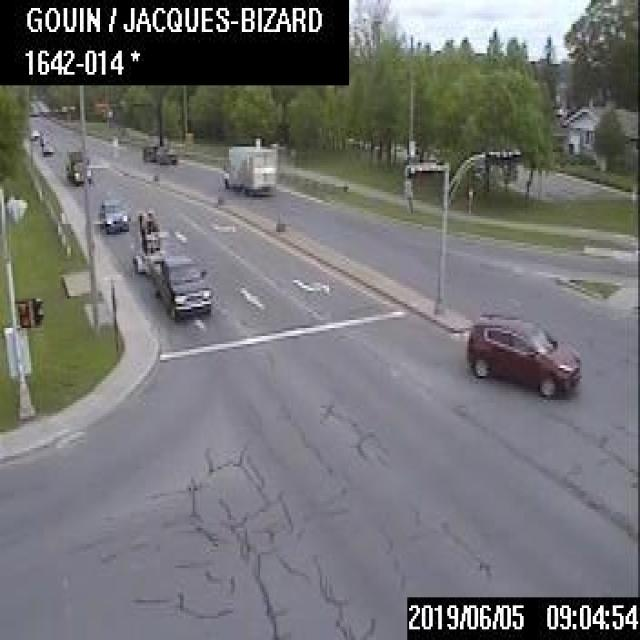vehicle: (464, 311, 580, 397), (131, 208, 210, 321), (221, 144, 275, 193), (97, 197, 128, 231), (64, 146, 90, 184), (141, 143, 175, 161), (41, 142, 53, 154), (28, 127, 38, 138)
